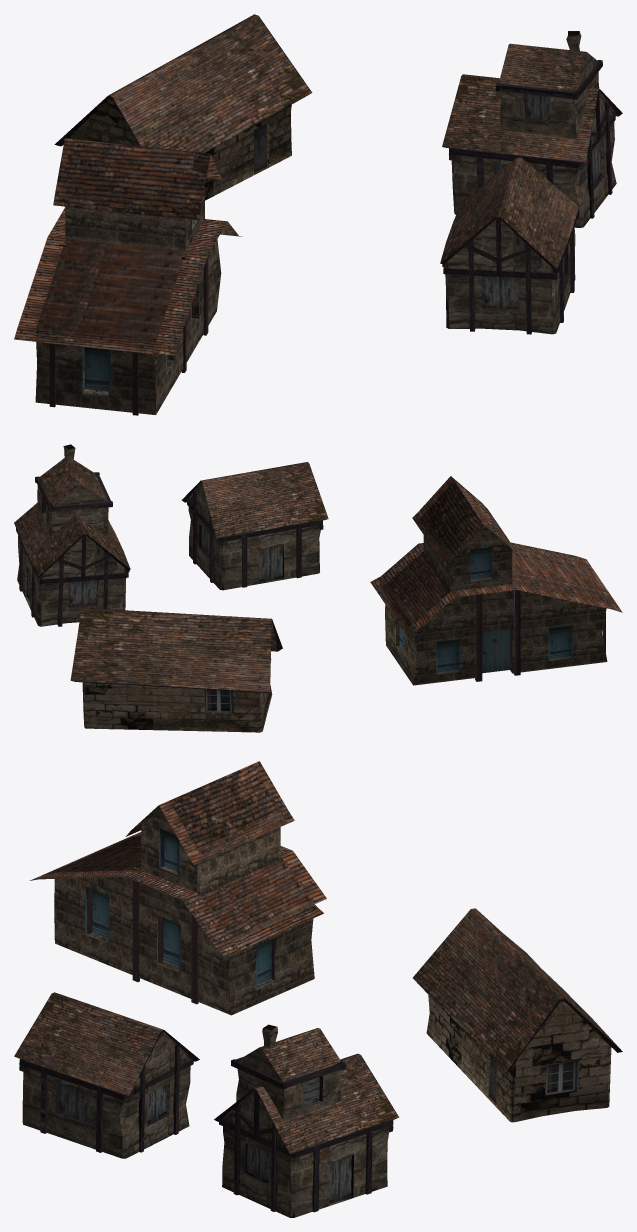
Rendered from house 1.fbx.
The picture shows the model from 3 angles, top to bottom: view 1: azimuth 30°, elevation 25°; view 2: azimuth 150°, elevation 25°; view 3: azimuth 270°, elevation 25°; orthographic projection. The views are drawn at different scales.
Parts seen in each view (by area): view 1: Cube_1, toit, Box030_1, Box024_2; view 2: Cube_1, toit, Box024_2, Box030_1; view 3: Cube_1, toit, Box030_1, Box024_2.
Boxes of the visible parts, left/top/right/bottom form: Cube_1: left=14, top=138, right=242, bottom=415; toit: left=54, top=14, right=312, bottom=200; Box030_1: left=442, top=31, right=622, bottom=227; Box024_2: left=440, top=157, right=578, bottom=334; Cube_1: left=370, top=476, right=622, bottom=685; toit: left=70, top=608, right=282, bottom=732; Box024_2: left=181, top=462, right=328, bottom=590; Box030_1: left=14, top=444, right=130, bottom=626; Cube_1: left=29, top=761, right=326, bottom=1015; toit: left=413, top=908, right=622, bottom=1122; Box030_1: left=214, top=1024, right=399, bottom=1217; Box024_2: left=14, top=992, right=199, bottom=1158.
Size of the model in its own units: 2176 by 611 by 1728.
Materials: 3 (3 with a texture image).
